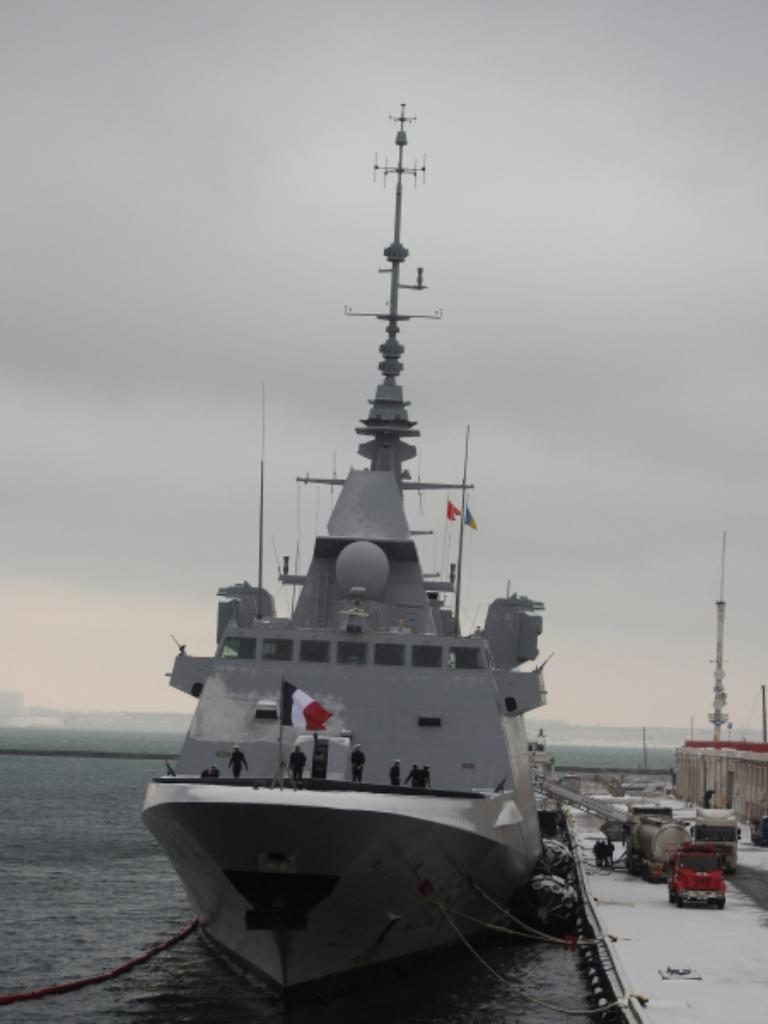Warship: (141, 96, 574, 1004)
